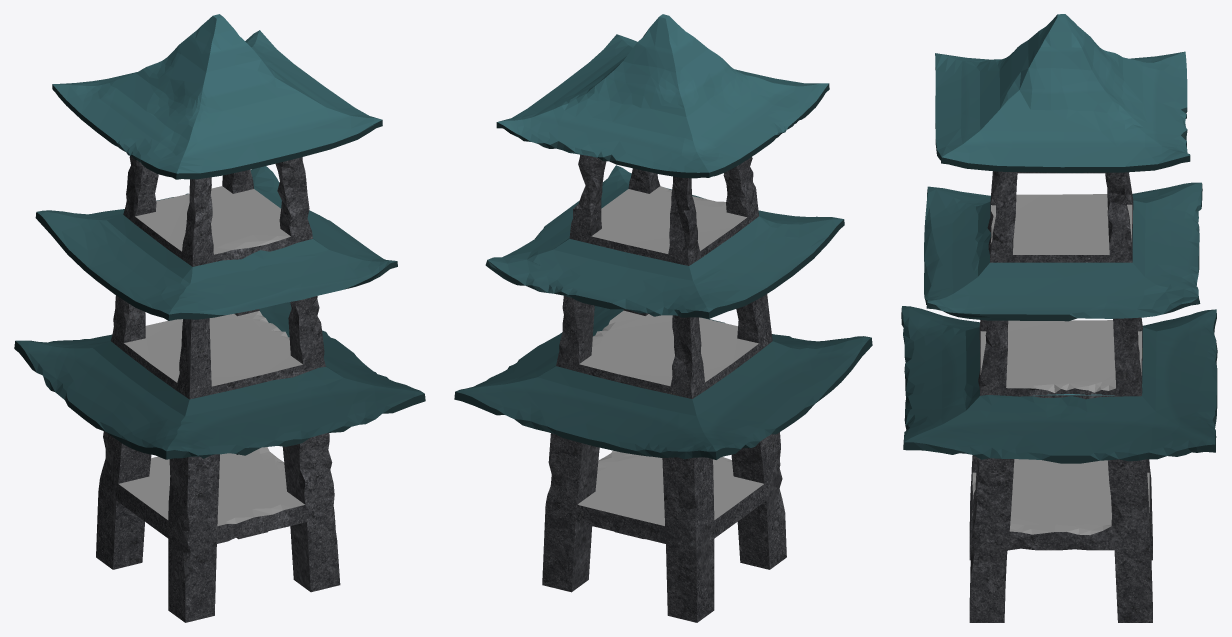
The model's file is pogoda.fbx.
3 renders of one model, left to right at view 1: azimuth 30°, elevation 25°; view 2: azimuth 150°, elevation 25°; view 3: azimuth 270°, elevation 25°, orthographic. The views are drawn at different scales.
Parts seen in each view (by area): view 1: pogoda-3, pogoda-1, pogoda-2; view 2: pogoda-3, pogoda-1, pogoda-2; view 3: pogoda-3, pogoda-1, pogoda-2.
Boxes of the visible parts, box(x1,y1,x2,y2) form: pogoda-3: box(14, 302, 425, 622); pogoda-1: box(52, 14, 382, 267); pogoda-2: box(35, 166, 397, 398); pogoda-3: box(454, 306, 872, 622); pogoda-1: box(496, 14, 829, 269); pogoda-2: box(485, 165, 844, 398); pogoda-3: box(901, 306, 1217, 622); pogoda-1: box(935, 14, 1190, 261); pogoda-2: box(924, 182, 1202, 395).
Size of the model in its own units: 174 by 347 by 175.
